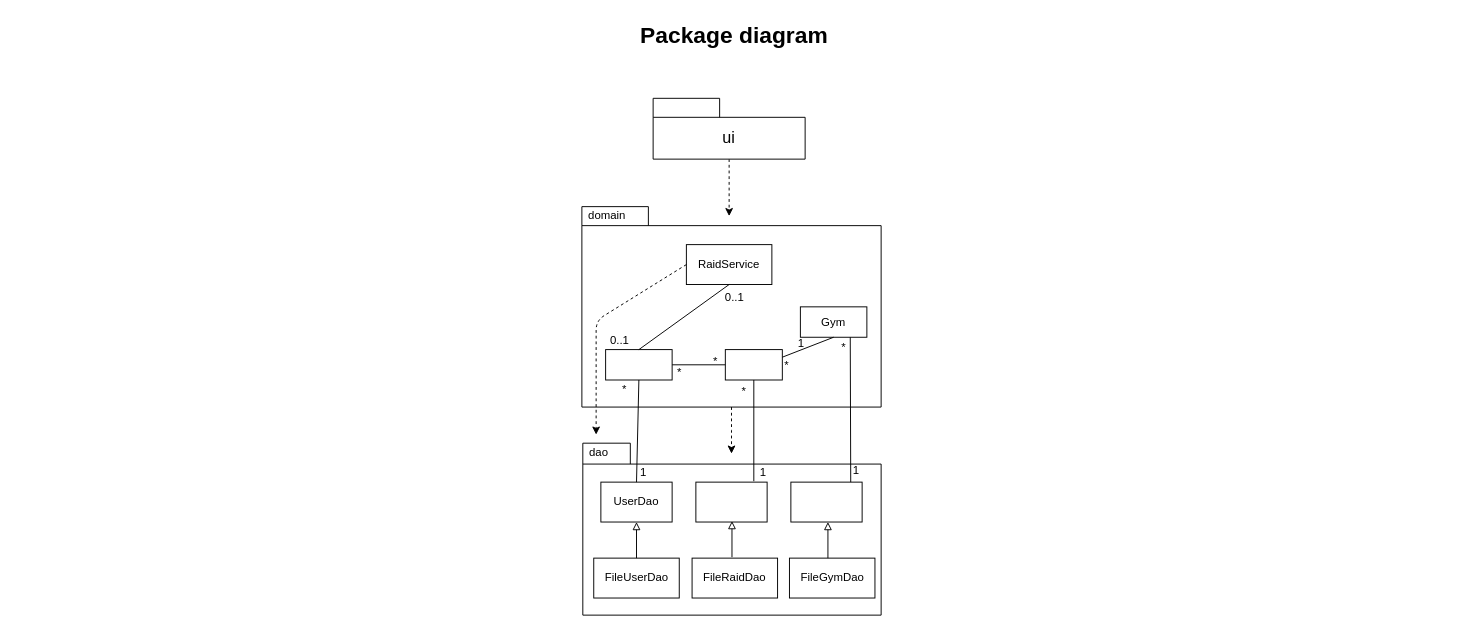
Some shapes in this 1467 by 632 pixel diagram are drawn without their labels. The shapes that lost their labels are listed below. From the top down, each one's centre as x and y in pixels, then its label:
the point at 638,364: User
the point at 753,364: Raid
the point at 731,501: RaidDao
the point at 826,501: GymDao
